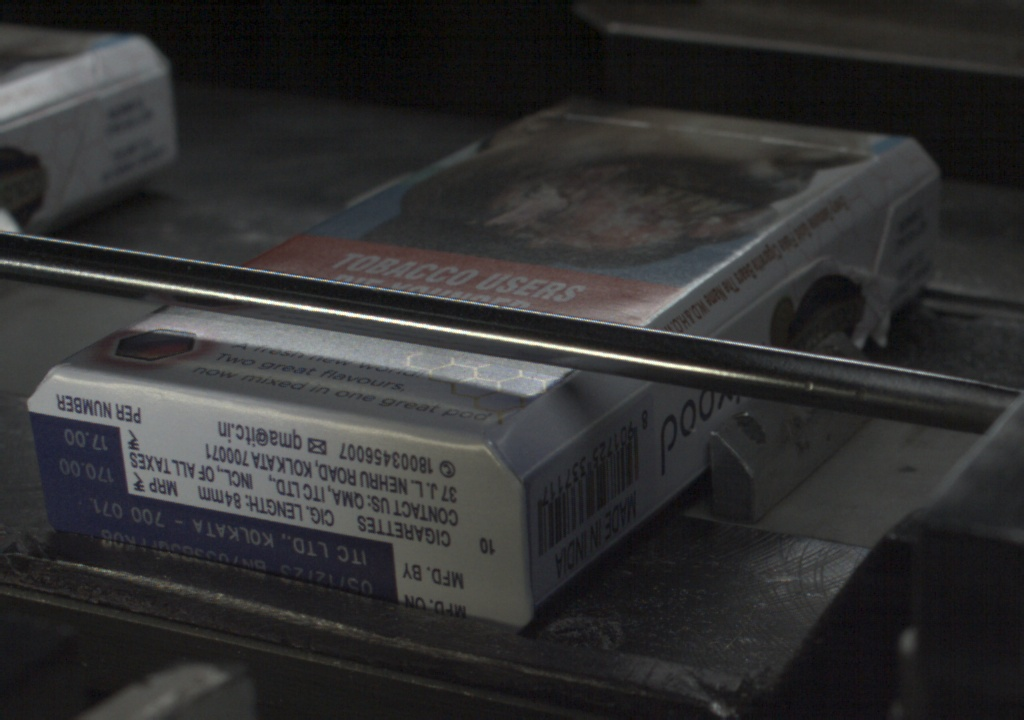g_bottom: (28, 370, 511, 630)
g_label: (43, 491, 397, 603)
g_lmiter: (716, 280, 791, 331), (521, 428, 582, 478), (582, 381, 646, 428)
g_miter: (891, 166, 938, 203)
ng_lmiter: (817, 205, 890, 290)
price: (33, 418, 125, 488)
